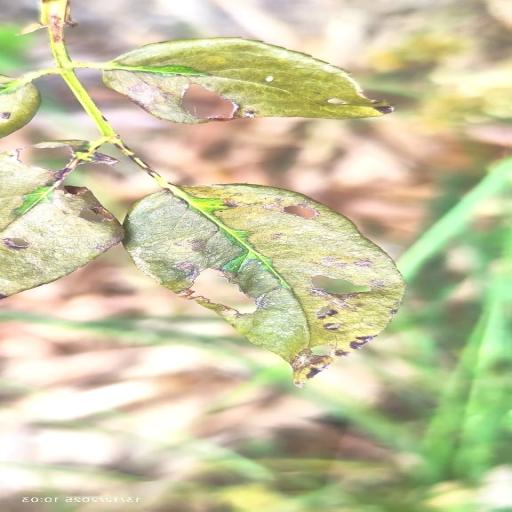thrip: (124, 184, 403, 385), (102, 38, 392, 124), (0, 150, 124, 298)
